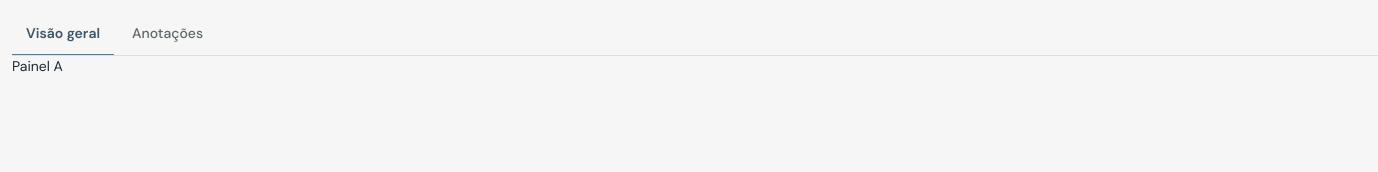
Test: Tabs › troca de aba com as setas e mostra o painel certo
Expected: the panel reads "Painel A", [12, 57, 63, 75]
Click the tab "Visão geral": (63, 34) [12, 12, 114, 56]
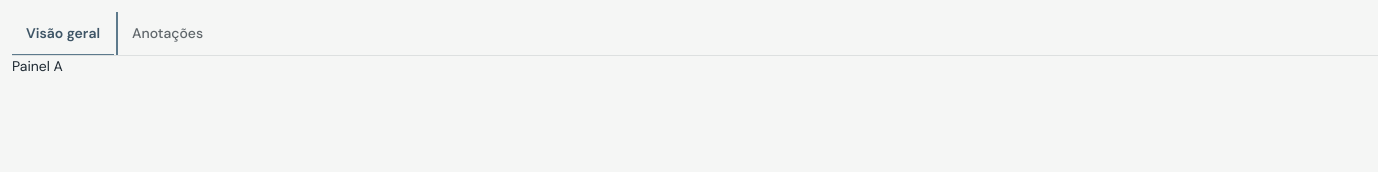
Press Arrowright
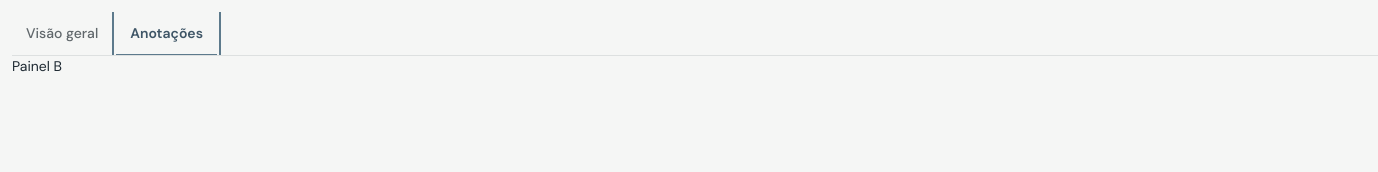
Result: the panel reads "Painel B" at [12, 57, 62, 75]
